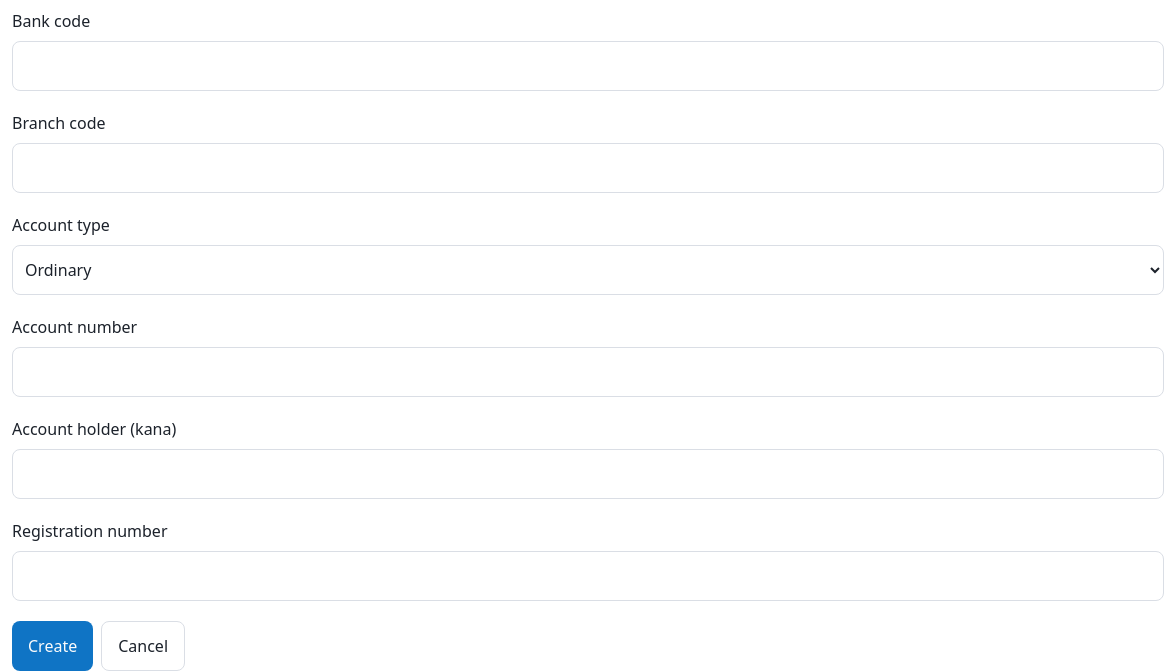
Test: VendorForm › shows validation errors and does not submit when empty
(page scrolled)
Click the button "Create" at {"x": 53, "y": 646}, box [12,621,93,670]
(page scrolled)
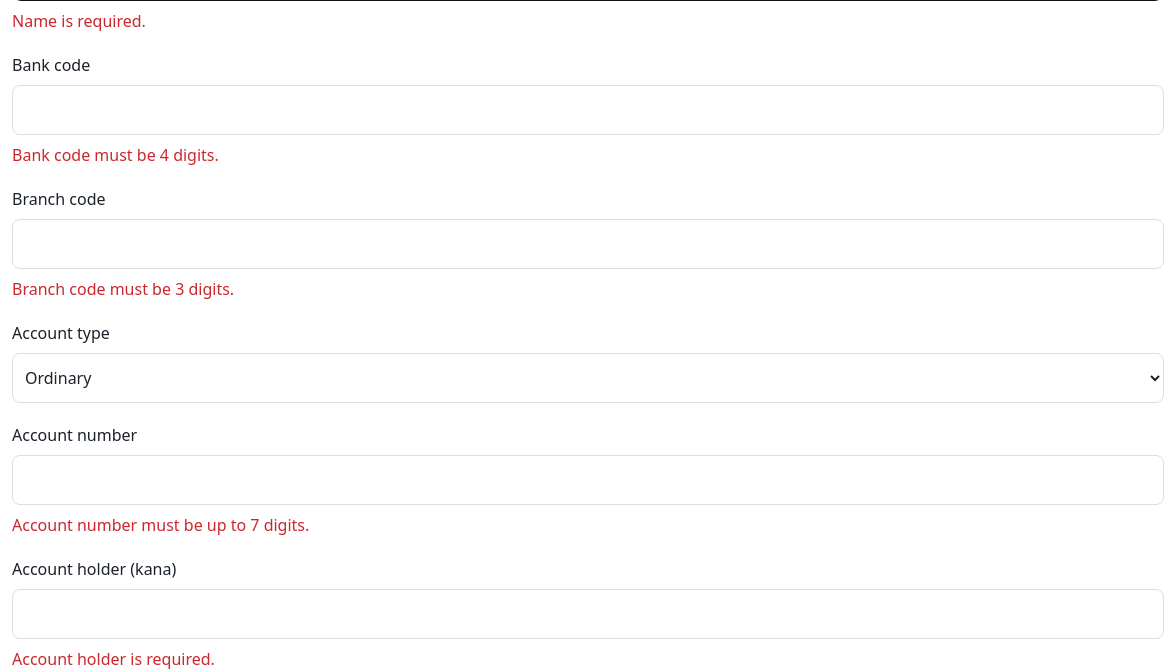
Result: the text "Name is required." is shown at [12,10,146,32]
Result: the text "Bank code must be 4 digits." is shown at [12,144,219,166]
